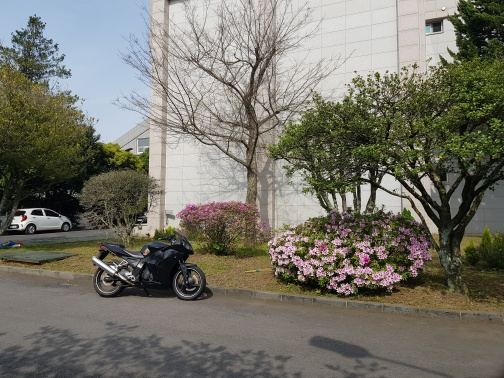College of Nursing: (143, 13, 491, 236)
